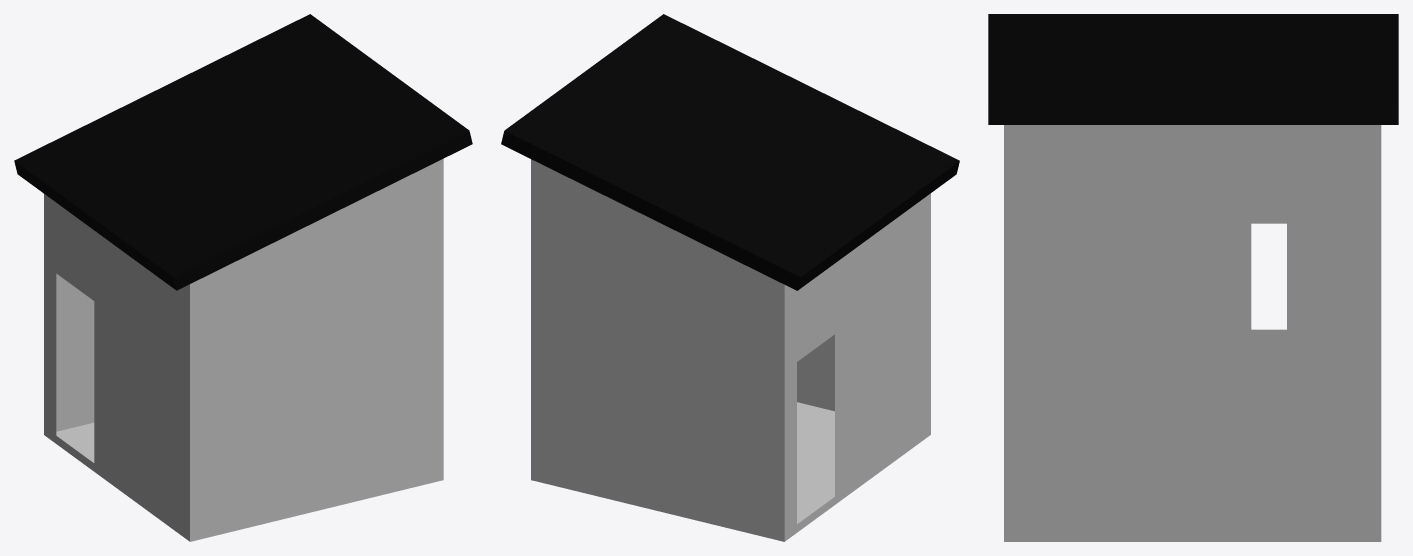
Rendered from casetaEntrada.fbx.
3 renders of one model, left to right at view 1: azimuth 30°, elevation 25°; view 2: azimuth 150°, elevation 25°; view 3: azimuth 270°, elevation 25°, orthographic. The views are drawn at different scales.
Visible parts, largest first — view 1: Cube, techo; view 2: Cube, techo; view 3: Cube, techo.
Part boxes in pixels (bbox=[...]): Cube: bbox=[44, 158, 443, 541]; techo: bbox=[14, 14, 472, 290]; Cube: bbox=[531, 159, 930, 541]; techo: bbox=[501, 14, 959, 290]; Cube: bbox=[1004, 125, 1381, 541]; techo: bbox=[988, 14, 1398, 124].
Size of the model in its own units: 909 by 1013 by 837.
